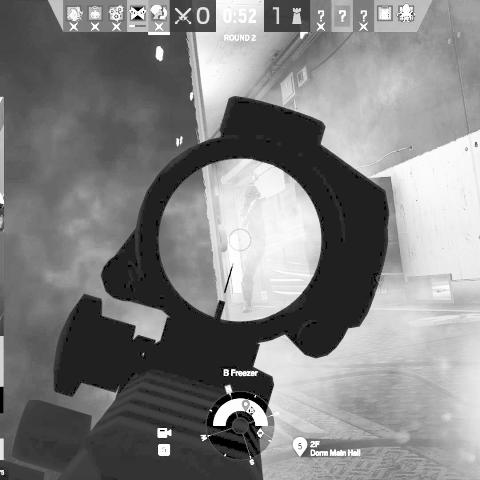Character: (238, 184, 268, 314)
Head: (243, 184, 262, 205)
